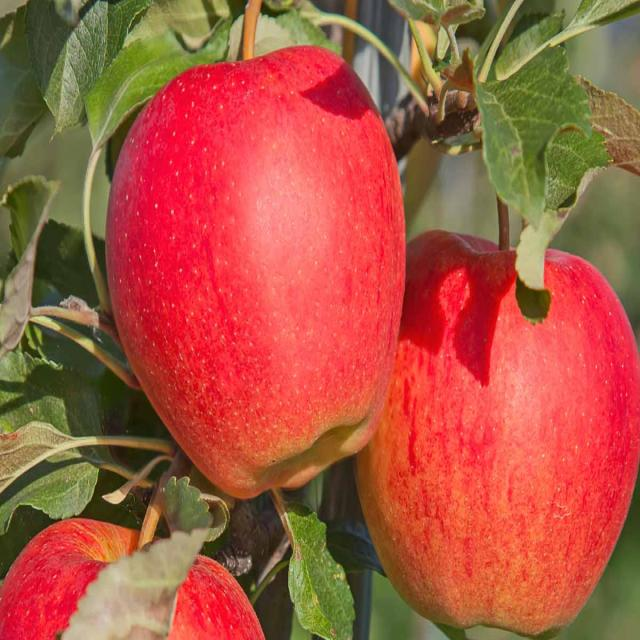Red Apple: (83, 39, 410, 604), (558, 161, 640, 421), (1, 65, 64, 368)
